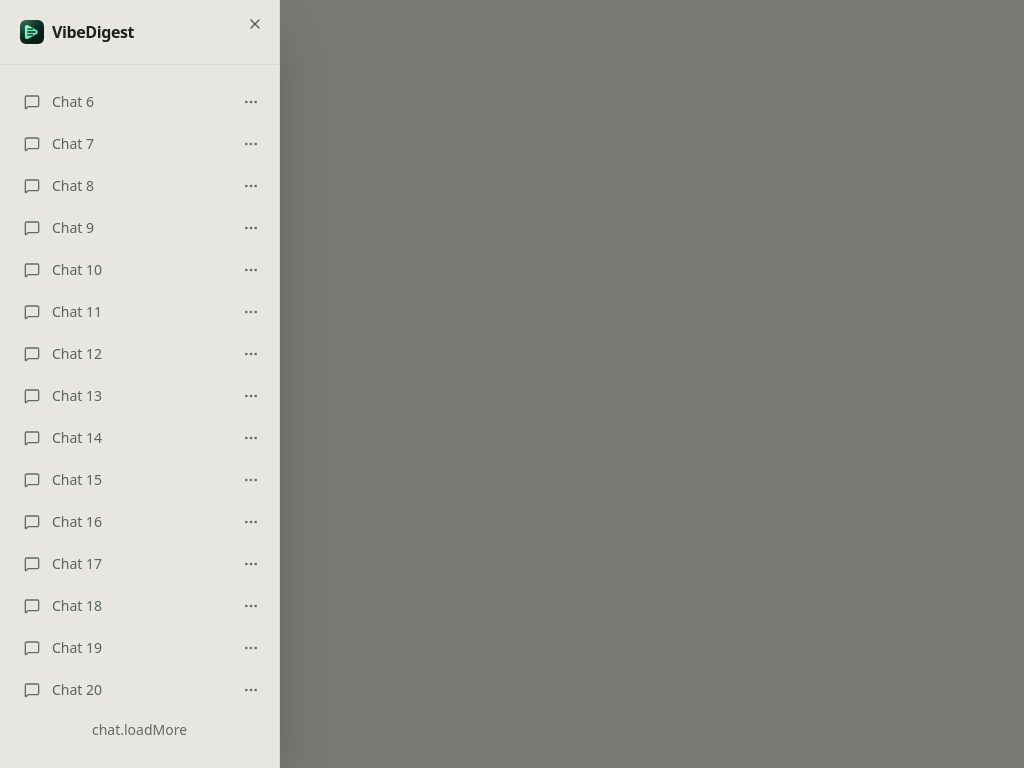
MobileMenuDrawer › limits the initial thread list and loads older chats on demand
(page scrolled)
Expected: the text "Chat 20" is shown, [52,680,102,700]
Expected: the text "Chat 21" is not shown
Click the button "chat.loadMore" at (140,730), box [12,712,267,748]
(page scrolled)
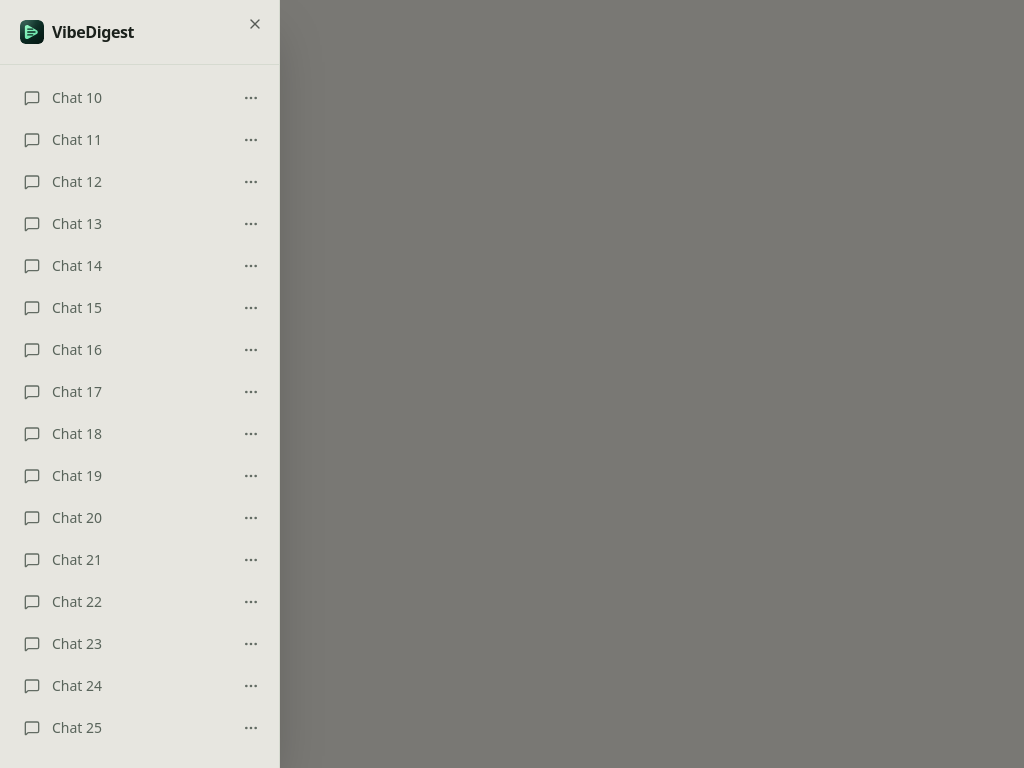
Expected: the text "Chat 25" is shown, [52,718,102,738]
